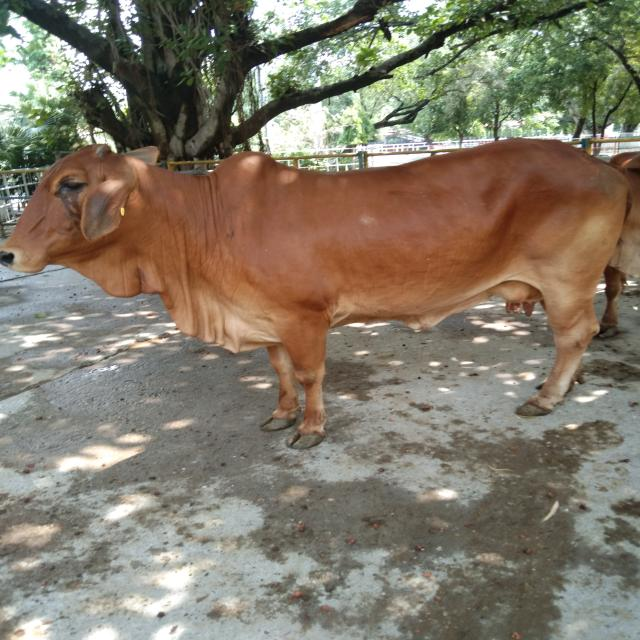Hoof: (285, 428, 326, 449), (514, 400, 553, 417), (259, 415, 297, 431)
